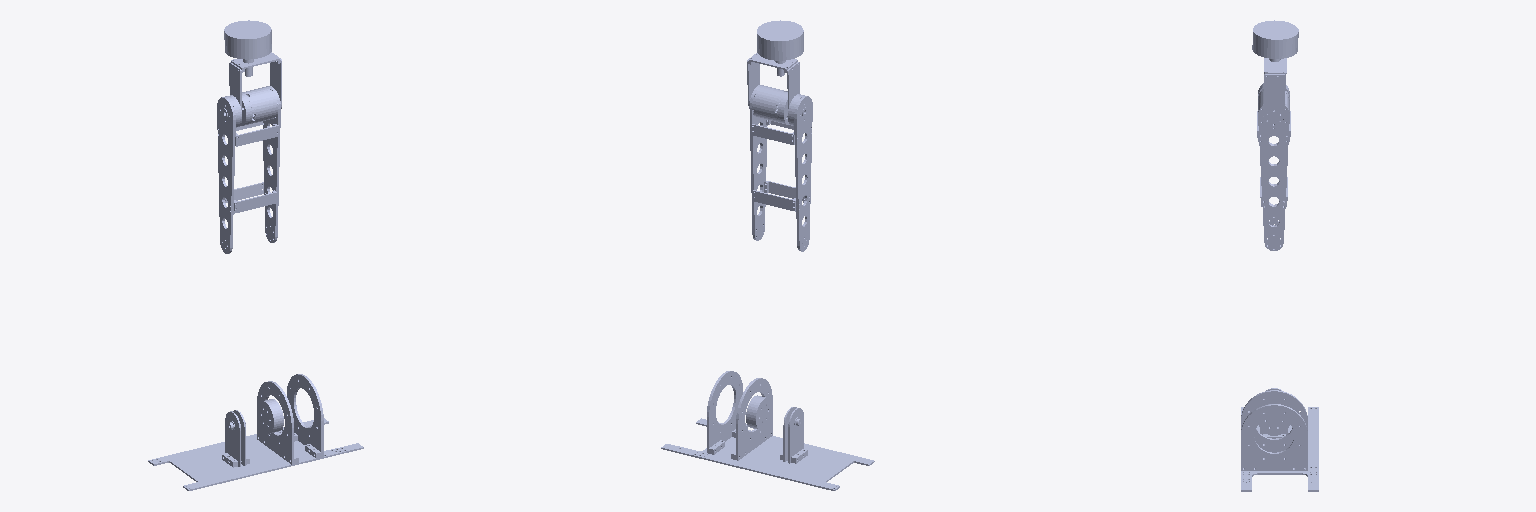
The robot description file, URDF, robot "armurdf_standard_motor":
<?xml version="1.0" encoding="utf-8"?>
<!-- This URDF was automatically created by SolidWorks to URDF Exporter! Originally created by Stephen Brawner (brawner@gmail.com) 
     Commit Version: 1.6.0-4-g7f85cfe  Build Version: 1.6.7995.38578
     For more information, please see http://wiki.ros.org/sw_urdf_exporter -->
<robot
  name="armurdf_standard_motor">
  <link
    name="base_link">
    <inertial>
      <origin
        xyz="0.06401797 0.00093364 0.06018482"
        rpy="0 0 0" />
      <mass
        value="1.19404" />
      <inertia
        ixx="0.00054518"
        ixy="-8.8651E-07"
        ixz="1.2762E-20"
        iyy="0.00099237"
        iyz="3.2702E-08"
        izz="0.0011813" />
    </inertial>
    <visual>
      <origin
        xyz="0 0 0"
        rpy="0 0 0" />
      <geometry>
        <mesh
          filename="package://armurdf_standard_motor/meshes/base_link.STL" />
      </geometry>
      <material
        name="">
        <color
          rgba="0.79216 0.81961 0.93333 1" />
      </material>
    </visual>
    <collision>
      <origin
        xyz="0 0 0"
        rpy="0 0 0" />
      <geometry>
        <mesh
          filename="package://armurdf_standard_motor/meshes/base_link.STL" />
      </geometry>
    </collision>
  </link>
  <link
    name="Link1">
    <inertial>
      <origin
        xyz="-0.00047343 0.28954791 0.0005662"
        rpy="0 0 0" />
      <mass
        value="0.54717" />
      <inertia
        ixx="0.0023759"
        ixy="3.3021E-06"
        ixz="-3.9537E-21"
        iyy="6.4486E-05"
        iyz="-5.53E-19"
        izz="0.0024336" />
    </inertial>
    <visual>
      <origin
        xyz="0 0 0"
        rpy="0 0 0" />
      <geometry>
        <mesh
          filename="package://armurdf_standard_motor/meshes/Link1.STL" />
      </geometry>
      <material
        name="">
        <color
          rgba="1 1 1 1" />
      </material>
    </visual>
    <collision>
      <origin
        xyz="0 0 0"
        rpy="0 0 0" />
      <geometry>
        <mesh
          filename="package://armurdf_standard_motor/meshes/Link1.STL" />
      </geometry>
    </collision>
  </link>
  <joint
    name="j1"
    type="revolute">
    <origin
      xyz="0 0 0.07"
      rpy="1.5708 0 1.57079265" />
    <parent
      link="base_link" />
    <child
      link="Link1" />
    <axis
      xyz="0 0 -1" />
    <limit
      lower="-1.57"
      upper="1.57"
      effort="30"
      velocity="3.14" />
  </joint>
  <link
    name="Link2">
    <inertial>
      <origin
        xyz="-0.0003464 0.2219719 0.00658453"
        rpy="0 0 0" />
      <mass
        value="0.5273" />
      <inertia
        ixx="0.00075992"
        ixy="1.0161E-06"
        ixz="4.134E-20"
        iyy="4.9865E-05"
        iyz="5.7918E-19"
        izz="0.00078302" />
    </inertial>
    <visual>
      <origin
        xyz="0 0 0"
        rpy="0 0 0" />
      <geometry>
        <mesh
          filename="package://armurdf_standard_motor/meshes/Link2.STL" />
      </geometry>
      <material
        name="">
        <color
          rgba="0.79216 0.81961 0.93333 0.25" />
      </material>
    </visual>
    <collision>
      <origin
        xyz="0 0 0"
        rpy="0 0 0" />
      <geometry>
        <mesh
          filename="package://armurdf_standard_motor/meshes/Link2.STL" />
      </geometry>
    </collision>
  </link>
  <joint
    name="j2"
    type="revolute">
    <origin
      xyz="-0.0005 0.35 0"
      rpy="0 0 0" />
    <parent
      link="Link1" />
    <child
      link="Link2" />
    <axis
      xyz="0 0 -1" />
    <limit
      lower="-2.32"
      upper="2.32"
      effort="10"
      velocity="3.14" />
  </joint>
  <link
    name="Link3">
    <inertial>
      <origin
        xyz="0.002693 0.11635 0.0019852"
        rpy="0 0 0" />
      <mass
        value="0.24563" />
      <inertia
        ixx="0.00013404"
        ixy="1.2628E-06"
        ixz="6.3612E-09"
        iyy="0.0001778"
        iyz="-1.8653E-10"
        izz="0.00013348" />
    </inertial>
    <visual>
      <origin
        xyz="0 0 0"
        rpy="0 0 0" />
      <geometry>
        <mesh
          filename="package://armurdf_standard_motor/meshes/Link3.STL" />
      </geometry>
      <material
        name="">
        <color
          rgba="0.79216 0.81961 0.93333 1" />
      </material>
    </visual>
    <collision>
      <origin
        xyz="0 0 0"
        rpy="0 0 0" />
      <geometry>
        <mesh
          filename="package://armurdf_standard_motor/meshes/Link3.STL" />
      </geometry>
    </collision>
  </link>
  <joint
    name="j3"
    type="revolute">
    <origin
      xyz="-0.000357142857063231 0.24999974489785 -0.00262500000000032"
      rpy="0 0 0" />
    <parent
      link="Link2" />
    <child
      link="Link3" />
    <axis
      xyz="0 0 -1" />
    <limit
      lower="-1.95"
      upper="1.95"
      effort="10"
      velocity="3.14" />
  </joint>
  <link
    name="tool_Link">
    <inertial>
      <origin
        xyz="0 0 0"
        rpy="0 0 0" />
      <mass
        value="0.0001" />
      <inertia
        ixx="1E-06"
        ixy="1E-06"
        ixz="0"
        iyy="1E-06"
        iyz="0"
        izz="0" />
    </inertial>
    <visual>
      <origin
        xyz="0 0 0"
        rpy="0 0 0" />
      <geometry>
        <mesh
          filename="package://armurdf_standard_motor/meshes/tool_Link.STL" />
      </geometry>
      <material
        name="">
        <color
          rgba="1 1 1 1" />
      </material>
    </visual>
    <collision>
      <origin
        xyz="0 0 0"
        rpy="0 0 0" />
      <geometry>
        <mesh
          filename="package://armurdf_standard_motor/meshes/tool_Link.STL" />
      </geometry>
    </collision>
  </link>
  <joint
    name="j_tool"
    type="fixed">
    <origin
      xyz="0.0034791 0.14696 -2.5E-05"
      rpy="0 0 0" />
    <parent
      link="Link3" />
    <child
      link="tool_Link" />
    <axis
      xyz="0 0 0" />
  </joint>
</robot>

--- What the picture shows (computed from the rendered views, not written in the file) ---
3 views of the same robot in one strip: view 1: azimuth 30°, elevation 25°; view 2: azimuth 150°, elevation 25°; view 3: azimuth 270°, elevation 25° (orthographic).
Robot: armurdf_standard_motor — 5 links, 4 joints (3 revolute, 1 fixed); root link base_link; default pose: all joints at 0.
Visible links, largest first — view 1: base_link, Link2, Link3; view 2: base_link, Link2, Link3; view 3: base_link, Link2, Link3.
Boxes of the visible links, x1,y1,x2,y2 form: base_link: (148,374,363,490); Link2: (217,86,280,253); Link3: (224,20,281,109); base_link: (661,371,874,490); Link2: (749,85,812,251); Link3: (747,20,803,108); base_link: (1241,388,1318,491); Link2: (1257,83,1290,250); Link3: (1252,20,1298,126).
Bounding box of the posed robot: 0.35 × 0.14 × 0.8212 m (x, y, z).
3 mesh visuals loaded from 5 distinct referenced files (3 binary STL); not drawn: 2 (reference not matched to a file when rendering).
